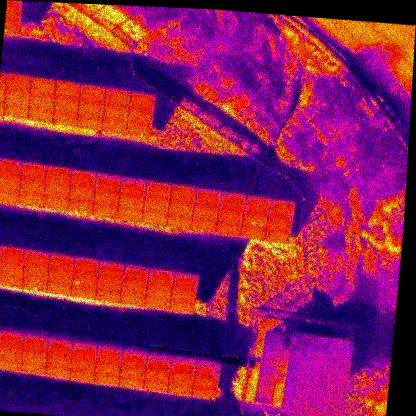Hotspot: (67, 198, 94, 216), (45, 166, 72, 184), (242, 211, 270, 228), (118, 192, 145, 209), (53, 94, 80, 111), (126, 121, 152, 138), (120, 177, 147, 193), (52, 110, 78, 126), (191, 219, 217, 234), (167, 382, 193, 397), (22, 349, 48, 364), (23, 276, 48, 291), (95, 288, 121, 302), (47, 281, 73, 295), (72, 272, 98, 286), (28, 107, 54, 121), (5, 103, 29, 118), (0, 262, 24, 276)
Normal: (97, 260, 124, 280), (104, 87, 132, 106), (266, 213, 293, 231), (219, 193, 246, 211), (127, 105, 154, 123), (5, 74, 32, 92), (193, 190, 221, 207), (92, 202, 119, 219), (19, 176, 46, 193), (77, 99, 104, 116), (29, 91, 56, 108), (79, 84, 106, 101), (196, 360, 223, 377), (96, 347, 123, 364), (73, 257, 99, 274), (43, 194, 69, 211), (144, 195, 170, 212), (44, 182, 70, 199), (245, 197, 271, 214), (21, 162, 47, 179), (4, 89, 30, 106), (45, 363, 71, 380), (171, 285, 198, 301), (123, 265, 150, 281), (68, 184, 95, 200), (95, 174, 122, 190), (102, 103, 129, 119), (30, 78, 57, 94), (147, 353, 172, 370), (47, 267, 73, 283), (48, 253, 74, 269), (167, 213, 193, 229), (19, 190, 45, 206), (94, 188, 120, 204), (270, 199, 296, 215), (170, 186, 196, 202), (70, 170, 96, 186), (101, 117, 127, 133), (55, 80, 81, 96), (69, 368, 95, 384), (122, 351, 148, 367), (72, 343, 98, 359), (48, 340, 74, 356), (23, 336, 49, 352), (0, 247, 25, 263), (77, 114, 102, 130), (130, 91, 155, 107), (192, 385, 217, 401), (23, 263, 49, 278), (174, 273, 200, 288), (24, 250, 50, 265), (142, 209, 168, 224), (117, 207, 143, 222), (217, 208, 243, 223), (146, 182, 172, 197), (143, 378, 169, 393), (118, 375, 144, 390), (93, 372, 119, 387), (216, 221, 240, 237), (0, 331, 24, 347), (146, 282, 173, 296), (147, 270, 174, 284), (145, 294, 170, 309), (193, 206, 218, 221), (21, 361, 46, 376), (172, 357, 197, 372), (169, 300, 195, 314), (264, 229, 290, 243), (169, 201, 195, 215), (169, 371, 195, 385), (0, 159, 22, 175), (239, 226, 266, 239), (122, 279, 147, 293), (120, 291, 146, 304), (71, 285, 97, 298), (144, 367, 170, 380), (71, 357, 97, 370), (0, 173, 21, 189), (0, 345, 24, 359), (0, 357, 22, 372), (194, 375, 219, 388), (0, 273, 23, 287), (97, 278, 123, 290), (95, 362, 121, 374), (47, 354, 73, 366), (0, 187, 19, 203), (120, 364, 145, 376), (0, 244, 1, 262)
